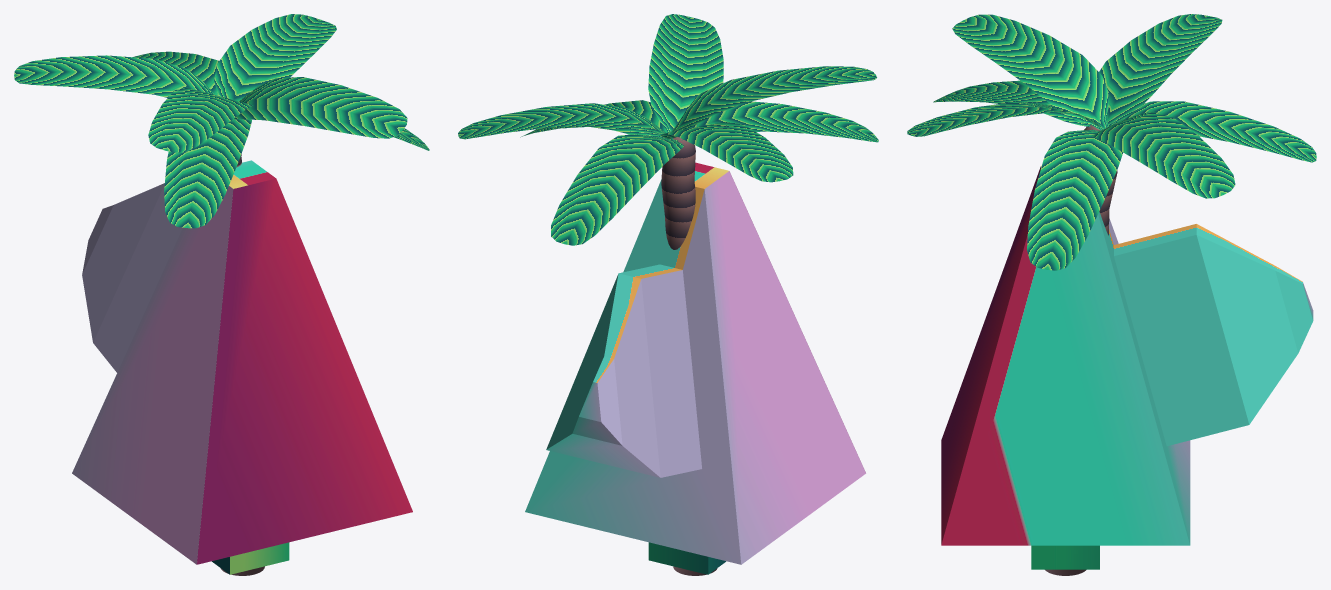
The model's file is Palme.glb.
The picture shows the model from 3 angles, left to right: view 1: azimuth 30°, elevation 25°; view 2: azimuth 150°, elevation 25°; view 3: azimuth 270°, elevation 25°; orthographic projection.
Parts seen in each view (by area): view 1: Cube, Plane.003; view 2: Cube, Plane.003; view 3: Cube, Plane.003.
Boxes of the visible parts, box(x1,y1,x2,y2) form: Cube: box(72, 160, 412, 574); Plane.003: box(14, 14, 429, 575); Cube: box(525, 162, 865, 574); Plane.003: box(458, 14, 878, 575); Cube: box(941, 165, 1313, 569); Plane.003: box(907, 14, 1316, 575).
Size of the model in its own units: 4.78 by 6.64 by 5.04.
Materials: 1 (1 with a texture image).
